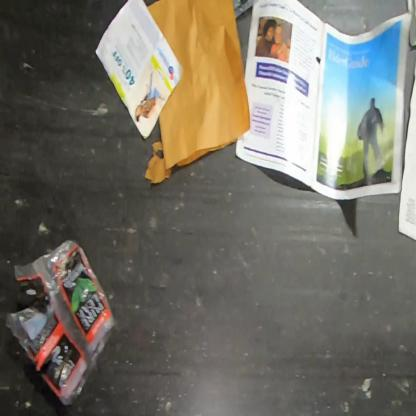soft_plastic: (4, 240, 120, 408)
